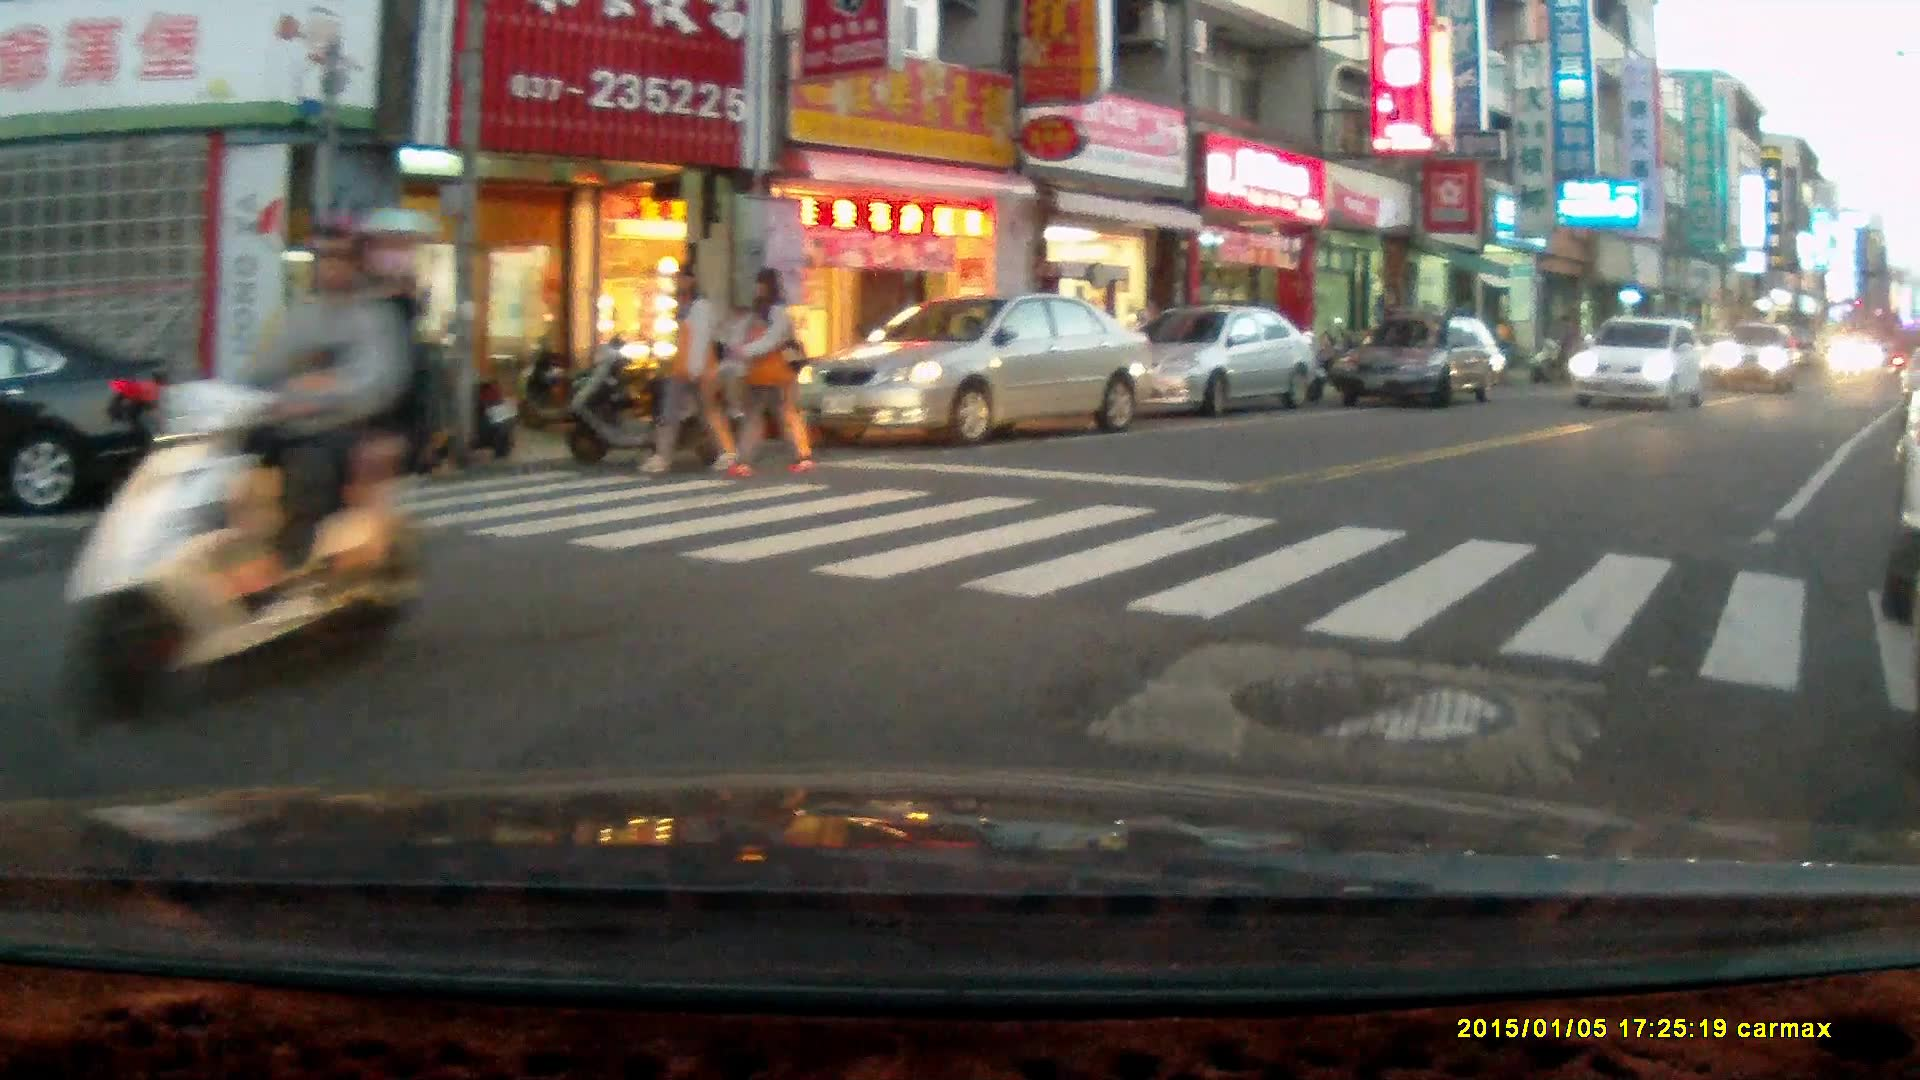pedestrian: (634, 260, 740, 475), (721, 262, 811, 478)
rider: (60, 201, 434, 733)
vehicle: (796, 295, 1156, 445), (1094, 305, 1322, 415), (1331, 315, 1513, 407), (1566, 316, 1711, 406), (1704, 320, 1805, 394), (1822, 332, 1880, 381)
